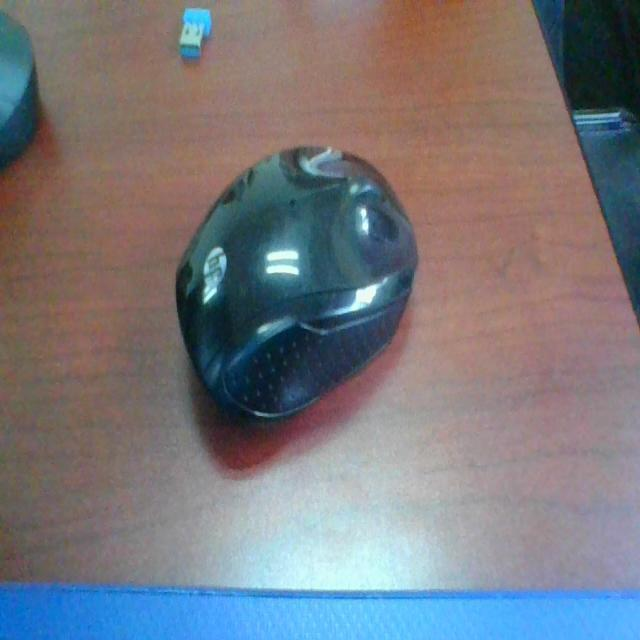Mouse: (178, 141, 440, 437)
